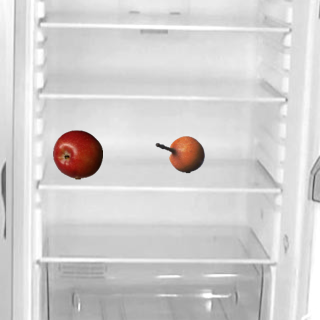Apple Braeburn: (52, 129, 102, 179)
Granadilla: (154, 129, 204, 179)
